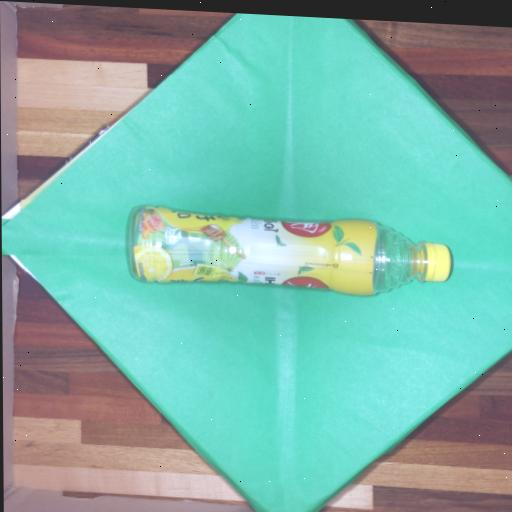bottle: (130, 206, 451, 295)
